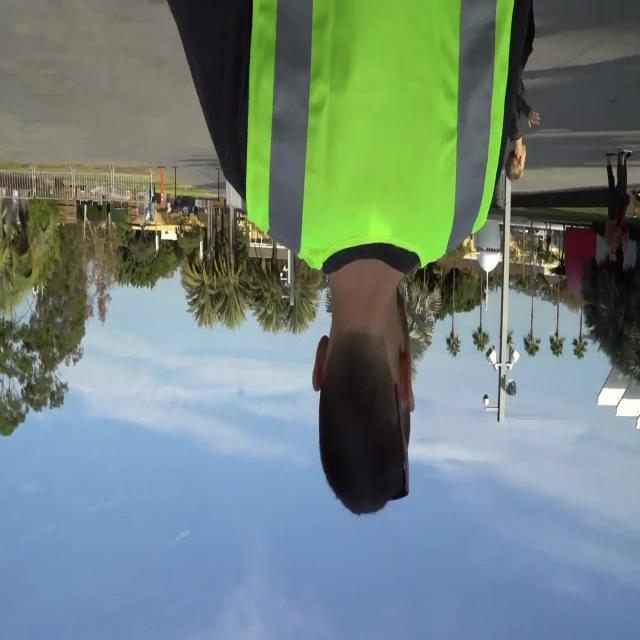jacket: (231, 0, 522, 304)
